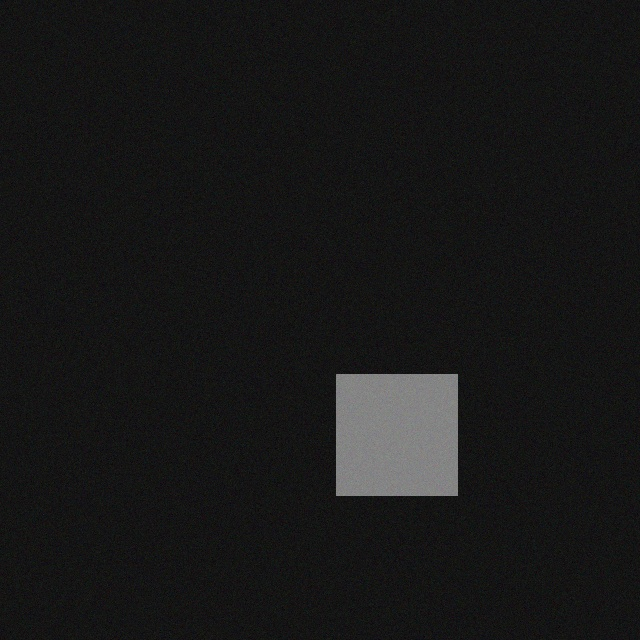square: (339, 384, 460, 505)
